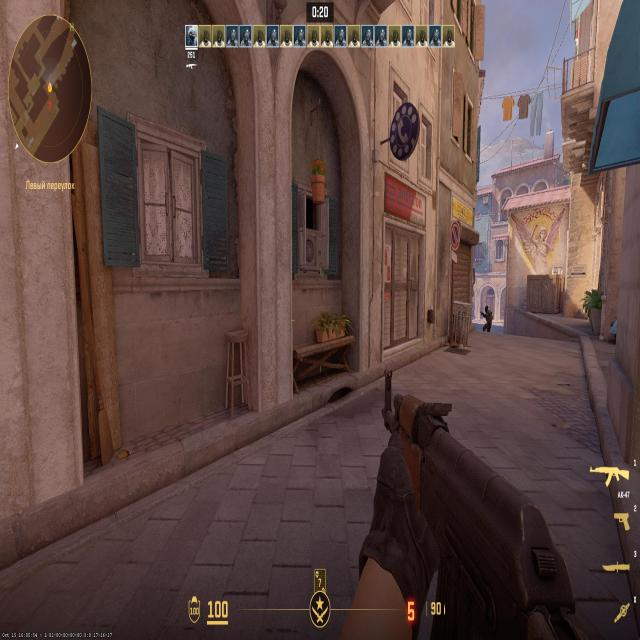CT: (484, 306, 492, 331)
CT_heat: (486, 310, 491, 318)
